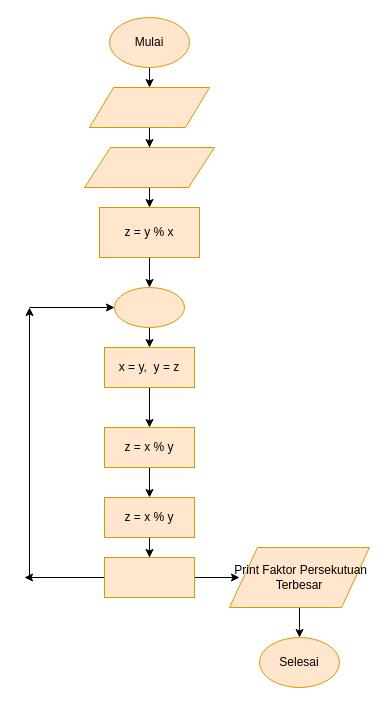
Some shapes in this 387 by 705 pixel diagram are drawn without their labels. Each missing label, with the centre of its shape:
"input nilai x, nilai y" belongs at point (149, 167).
"int x, y, z" belongs at point (149, 107).
"Loop" belongs at point (149, 307).
"z != 0" belongs at point (149, 577).
